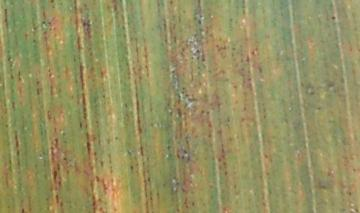tarspot: (327, 12, 337, 22)
